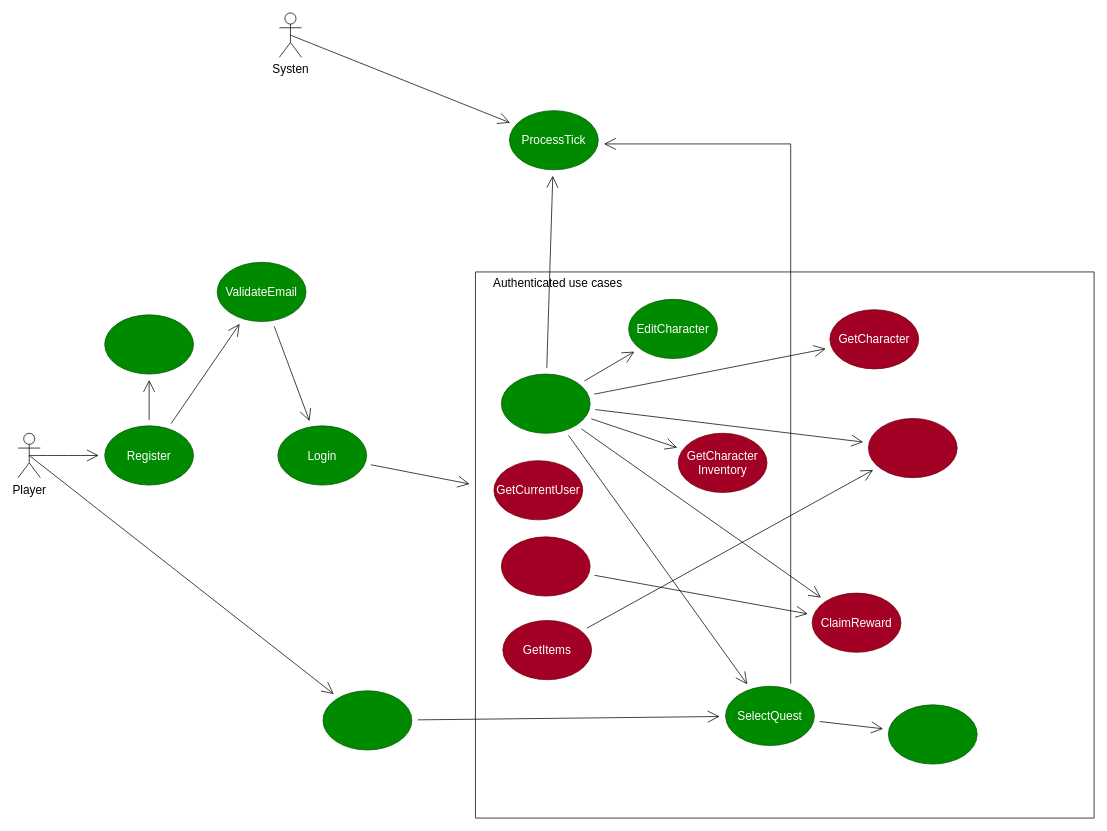
Some shapes in this 1107 by 831 pixel diagram are drawn without their labels. Each missing label, with the centre of its shape:
CreateCharacter: point (545, 403)
EquipItem: point (912, 448)
GetAvailableQuests: point (367, 720)
GetCurrentEncounter: point (932, 734)
GetUnclaimedRewards: point (545, 566)
ResendValidationEmail: point (149, 344)
